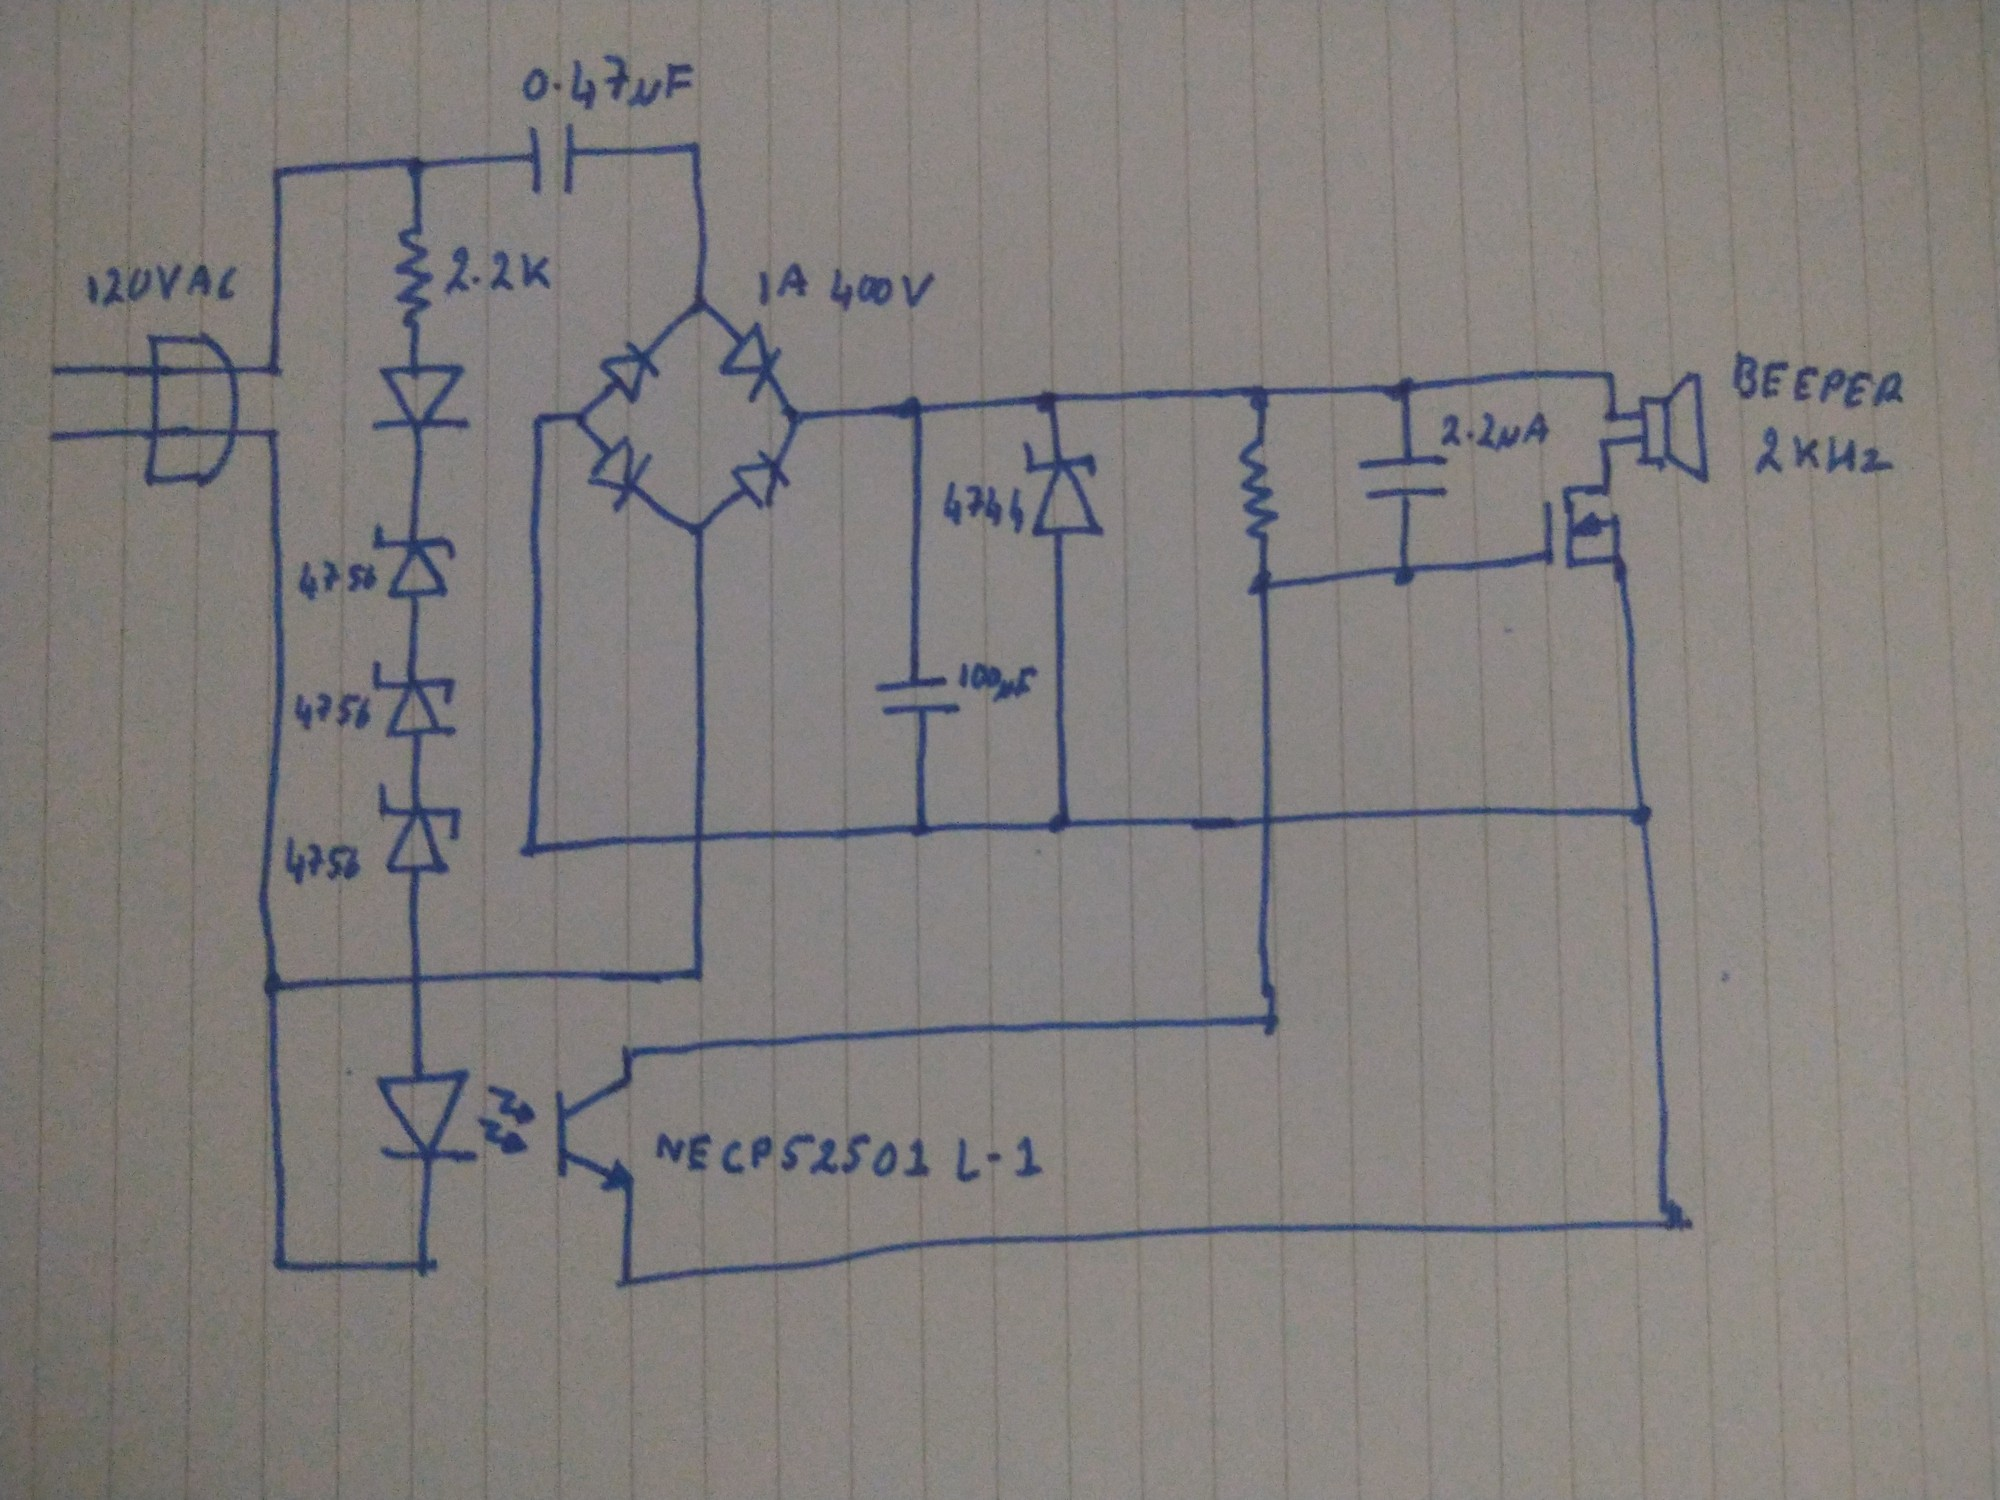capacitor.unpolarized: (510, 118, 595, 203), (1354, 449, 1457, 514), (874, 668, 961, 730)
crossover: (1252, 807, 1280, 834), (403, 967, 435, 989), (685, 827, 713, 849)
diode: (373, 780, 463, 879), (1022, 440, 1107, 539), (367, 359, 472, 438), (369, 659, 461, 745), (370, 518, 458, 603), (717, 320, 786, 402), (584, 433, 652, 514), (597, 340, 661, 407), (728, 447, 792, 512)
junction: (1644, 1194, 1706, 1248), (1380, 373, 1427, 408), (1254, 1005, 1291, 1043), (1241, 380, 1279, 414), (891, 392, 931, 425), (1243, 567, 1282, 600), (1043, 807, 1079, 840), (1627, 797, 1660, 834), (406, 1249, 441, 1283), (1030, 386, 1065, 418), (258, 967, 291, 999), (1387, 558, 1420, 589), (609, 1265, 643, 1297), (517, 834, 546, 867), (402, 151, 436, 180), (680, 293, 715, 320), (906, 815, 937, 843), (687, 958, 713, 989), (683, 514, 712, 540), (683, 132, 710, 161), (778, 405, 809, 429), (266, 1253, 293, 1276), (616, 1038, 639, 1064), (261, 355, 287, 378), (269, 161, 294, 184), (526, 410, 553, 432), (261, 421, 283, 443), (570, 407, 594, 427), (1597, 366, 1619, 383), (1600, 407, 1620, 424), (1595, 433, 1613, 452)
optocoupler: (370, 1068, 643, 1201)
resistor: (1235, 432, 1283, 545), (394, 221, 436, 336)
socket: (140, 328, 243, 493)
speaker: (1635, 370, 1715, 485)
terminal: (36, 425, 68, 451), (41, 359, 68, 381)
text: (650, 1127, 1047, 1186), (513, 52, 699, 113), (1728, 351, 1907, 414), (1750, 424, 1898, 481), (80, 262, 244, 312), (439, 243, 554, 299), (827, 266, 939, 318), (1438, 408, 1554, 454), (940, 477, 1027, 537), (282, 834, 364, 889), (956, 660, 1041, 706), (294, 558, 378, 603), (293, 690, 373, 734), (753, 258, 813, 307)
transistor: (1540, 479, 1639, 581)
